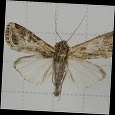Spodoptera litura: (4, 8, 112, 101)
